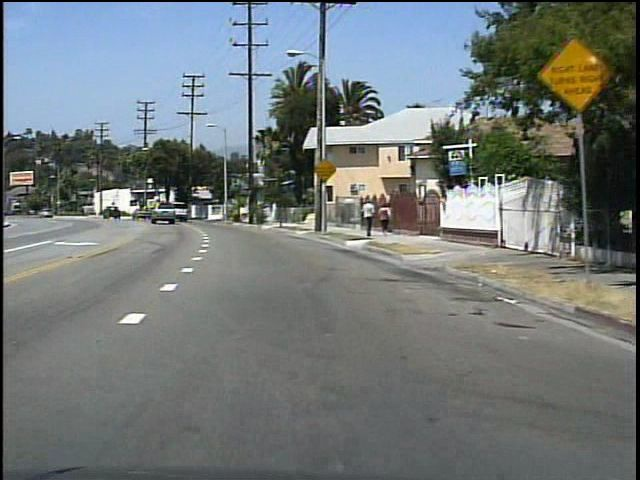person: (358, 196, 376, 239), (375, 200, 393, 235)
